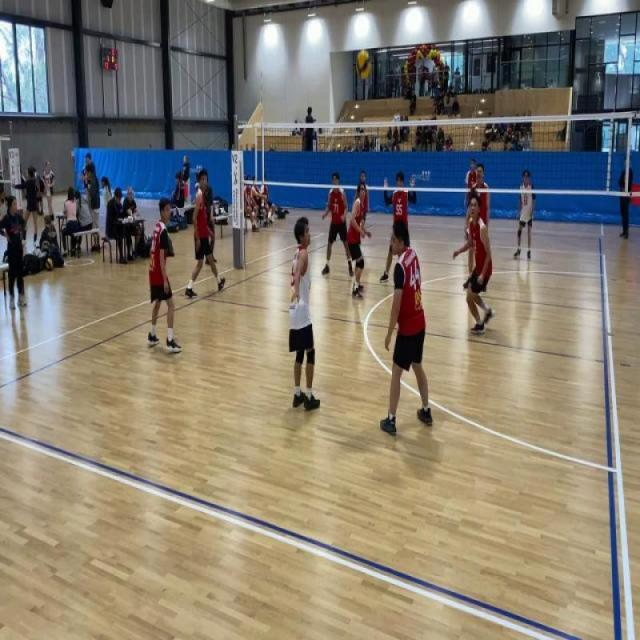volleyball: (355, 50, 372, 79), (46, 258, 54, 271), (147, 233, 153, 240), (167, 232, 170, 238)
